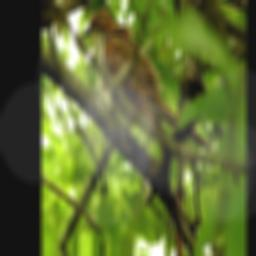Cuckoo: (79, 3, 217, 156)
